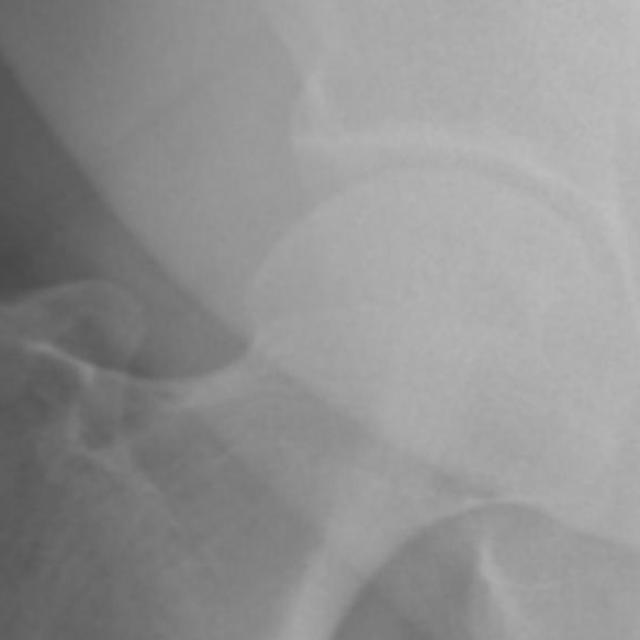Fitted_femural_head: (351, 164, 432, 351)
